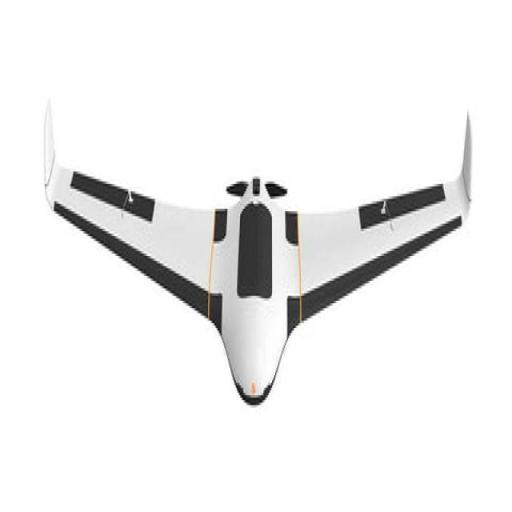uav: (37, 87, 485, 383)
